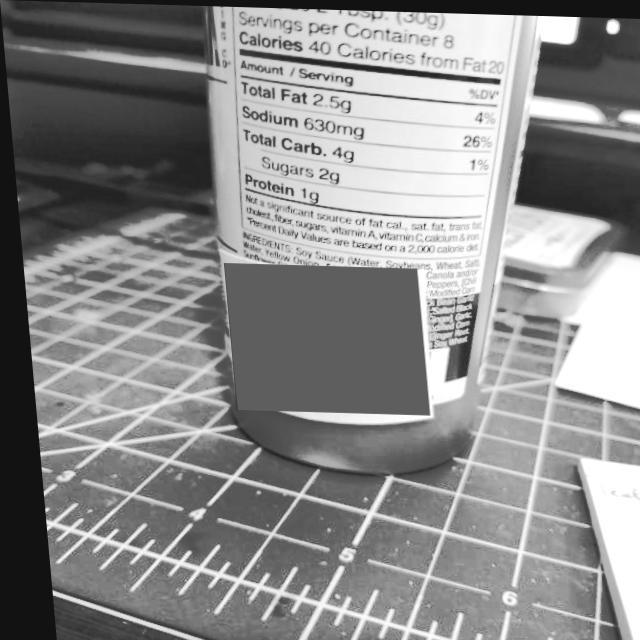qr_code: (220, 262, 422, 413)
